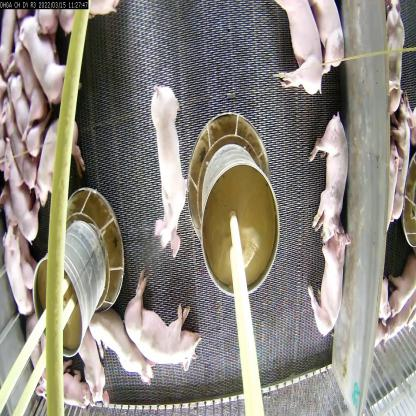Pig: (150, 86, 196, 247), (124, 274, 194, 373), (30, 103, 90, 214), (307, 116, 352, 244), (87, 301, 156, 379), (18, 7, 70, 105), (0, 137, 37, 266), (279, 0, 324, 101), (312, 221, 348, 329), (0, 102, 37, 205), (2, 213, 29, 337), (5, 66, 37, 163), (78, 319, 112, 402)
